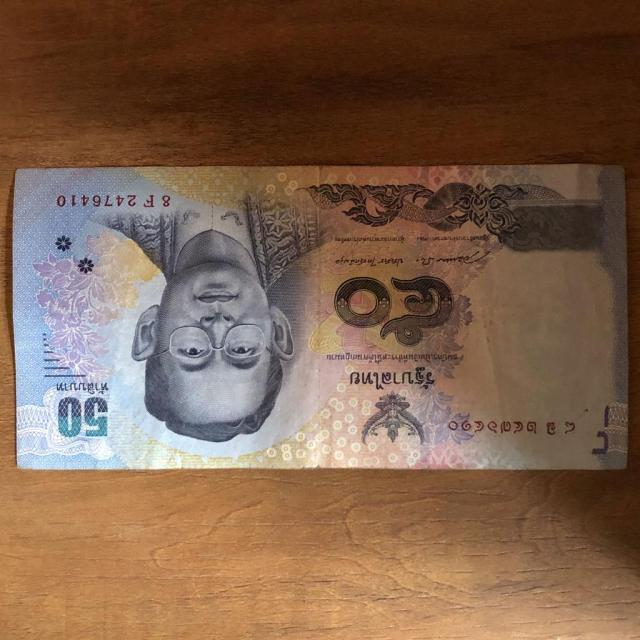THAI50: (12, 164, 628, 469)
